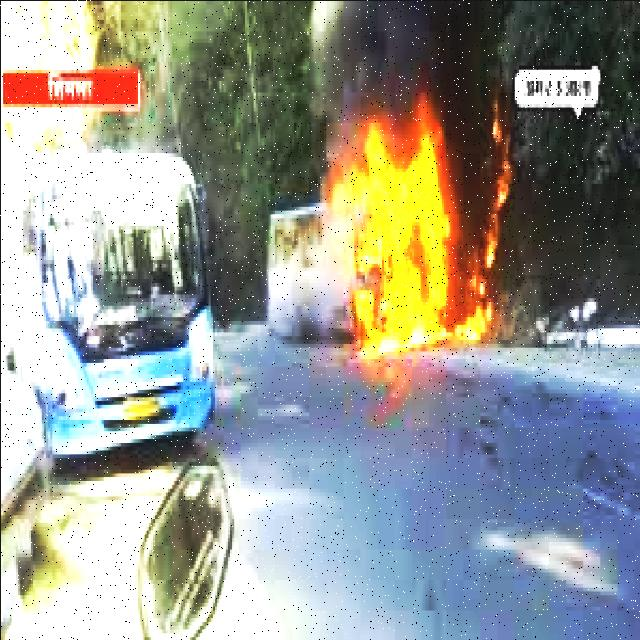api: (325, 85, 511, 375)
